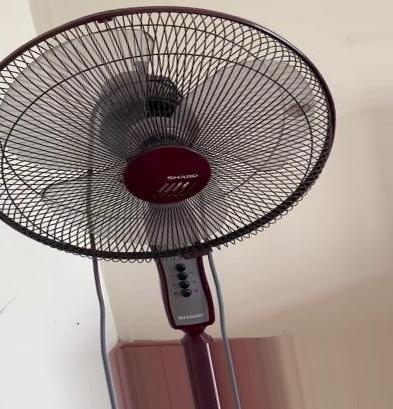fan: (0, 0, 365, 409)
